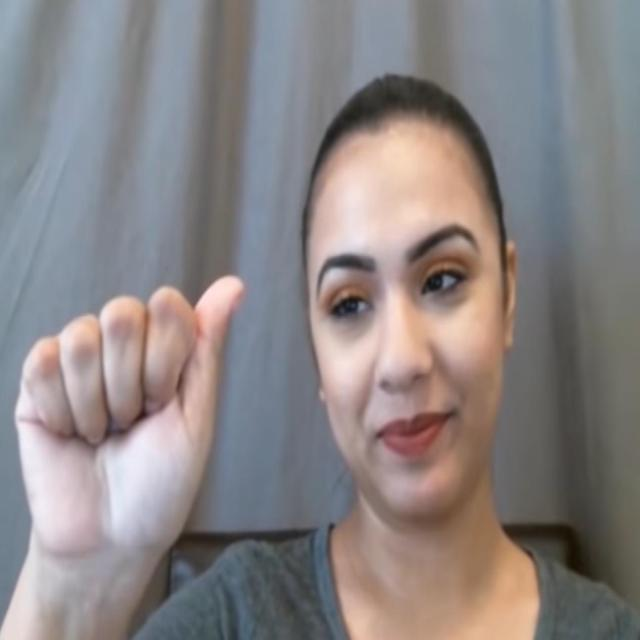A: (10, 271, 251, 548)
